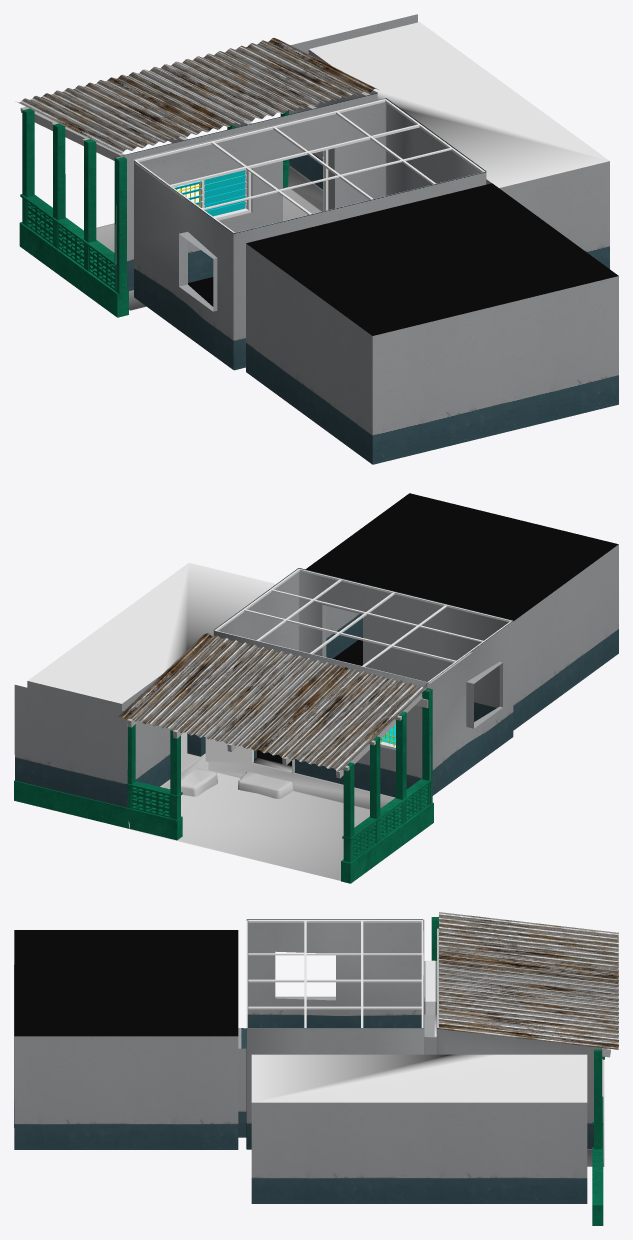
File: Room_Triage_v1.FBX
3 renders of one model, top to bottom at view 1: azimuth 30°, elevation 25°; view 2: azimuth 150°, elevation 25°; view 3: azimuth 270°, elevation 25°, orthographic. The views are drawn at different scales.
Parts seen in each view (by area): view 1: Room_Triage; view 2: Room_Triage; view 3: Room_Triage.
Part boxes in pixels (x1,y1,x2,y2): Room_Triage: (15,14,618,464); Room_Triage: (14,493,618,883); Room_Triage: (14,912,618,1225).
Size of the model in its own units: 358 by 140 by 534.
